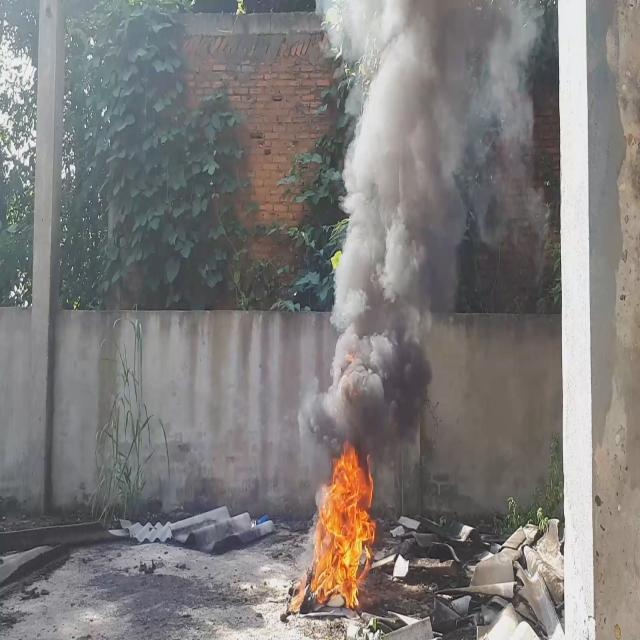Fire: (309, 436, 378, 608)
Smoke: (301, 0, 539, 456)
